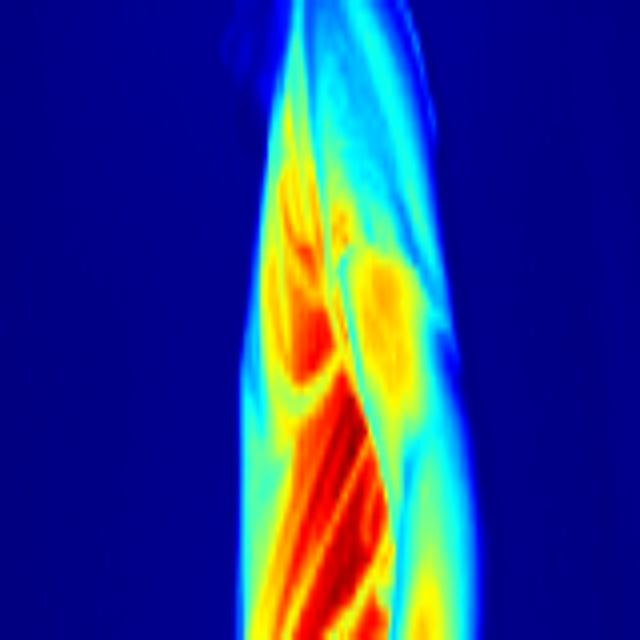rectangle: (210, 0, 504, 640)
